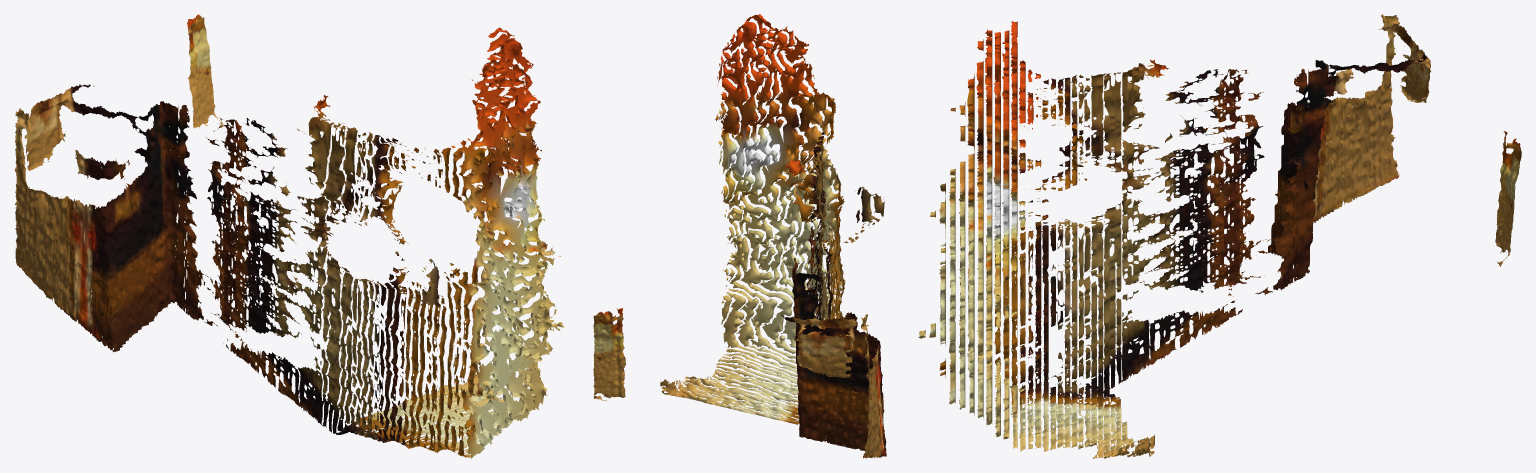
File: color_model_f001_20260323_211730.obj
The picture shows the model from 3 angles, left to right: view 1: azimuth 30°, elevation 25°; view 2: azimuth 150°, elevation 25°; view 3: azimuth 270°, elevation 25°; orthographic projection. The views are drawn at different scales.
Bounding box in the file's own units: 2.49 × 2.72 × 3.47.
